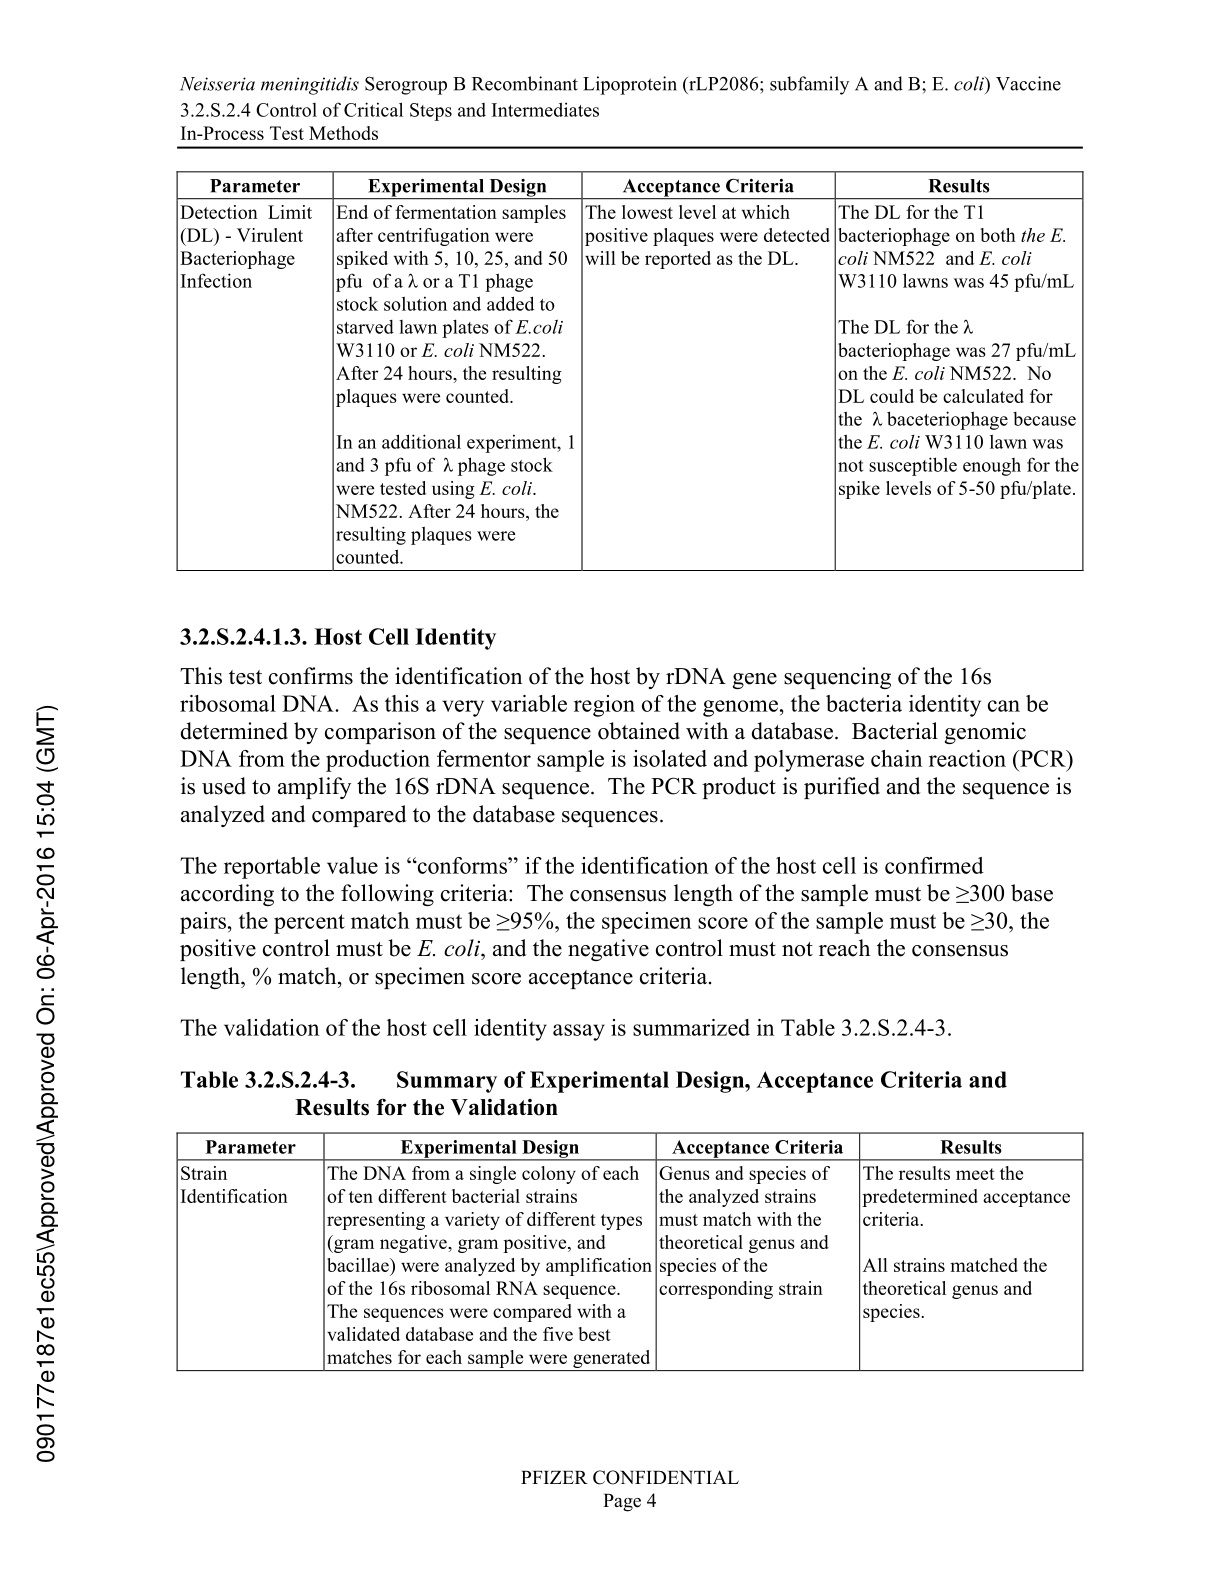full_lined: (176, 171, 1084, 572), (176, 1131, 1084, 1372)
